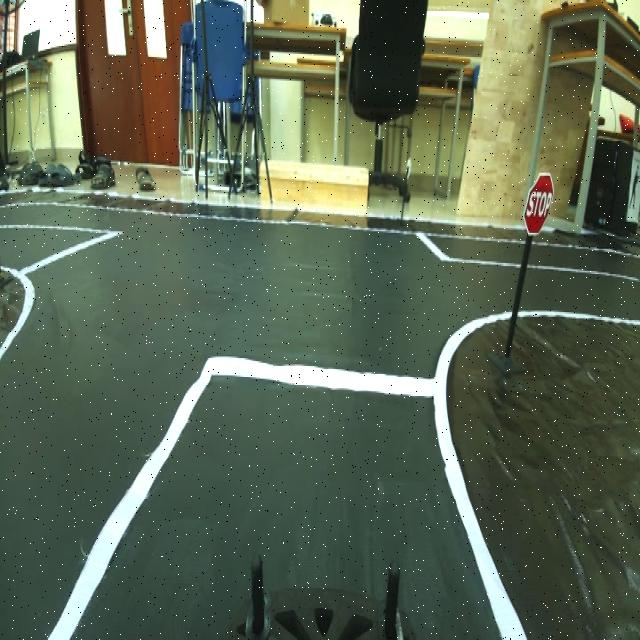stop: (518, 165, 561, 247)
